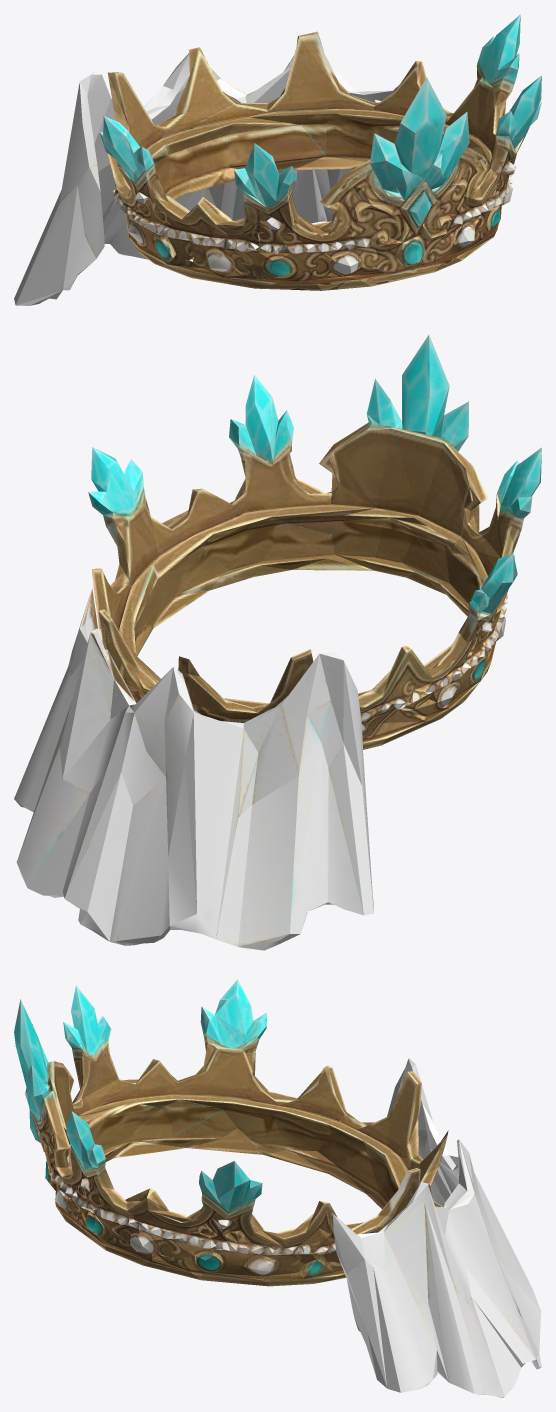
Rendered from broccato-testa.glb.
3 views of the same model, one above another, from view 1: azimuth 30°, elevation 25°; view 2: azimuth 150°, elevation 25°; view 3: azimuth 270°, elevation 25° (orthographic). The views are drawn at different scales.
Parts seen in each view (by area): view 1: Mesh_0; view 2: Mesh_0; view 3: Mesh_0.
Boxes of the visible parts, <box> form: Mesh_0: <box>14,14,541,305</box>; Mesh_0: <box>14,335,541,950</box>; Mesh_0: <box>14,979,541,1397</box>.
Bounding box in the file's own units: 1.56 × 1.42 × 1.9.
1 material, 1 textured.
